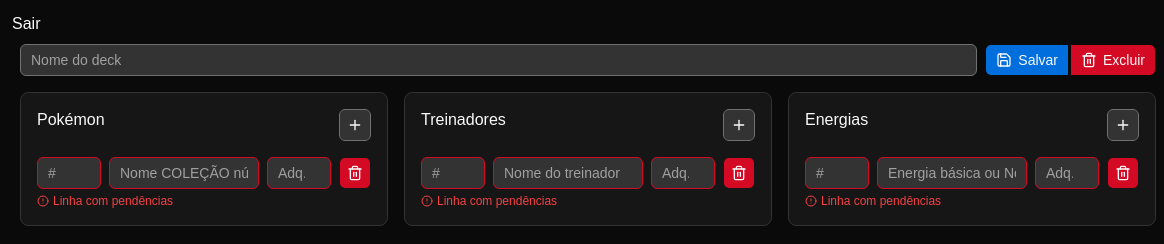
Scenario: DeckEditor › suggests known cards of the same category and fills text and owned on pick
Step 1. Click the dropdown named "Carta" → (184, 173), box [109,157,259,189]
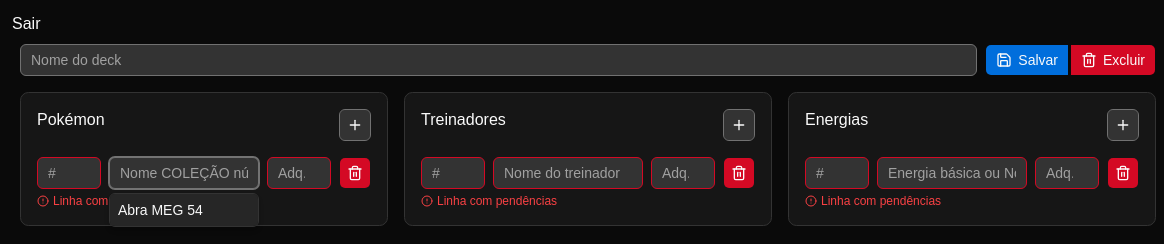
Check: the option "Abra MEG 54" is shown
Step 2. Click the option "Abra MEG 54" → (184, 210), box [110,194,258,226]
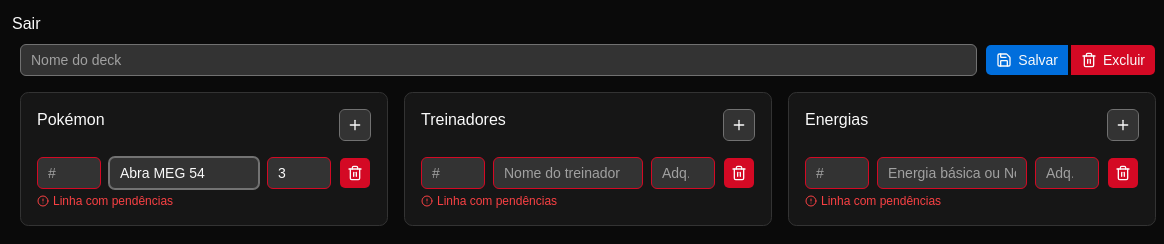
Check: the dropdown named "Carta" holds "Abra MEG 54", box [109,157,259,189]
Check: the number field named "Adquirido" holds "3", box [267,157,331,189]
